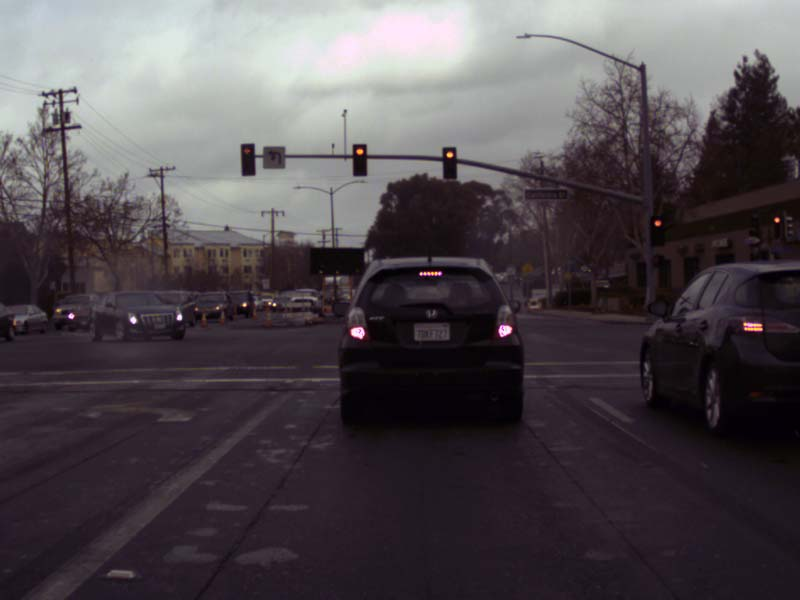Red: (353, 144, 366, 175), (241, 144, 254, 174), (443, 147, 455, 178), (651, 216, 663, 245), (773, 216, 780, 237)
